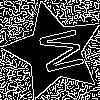M: (29, 26, 85, 78)
